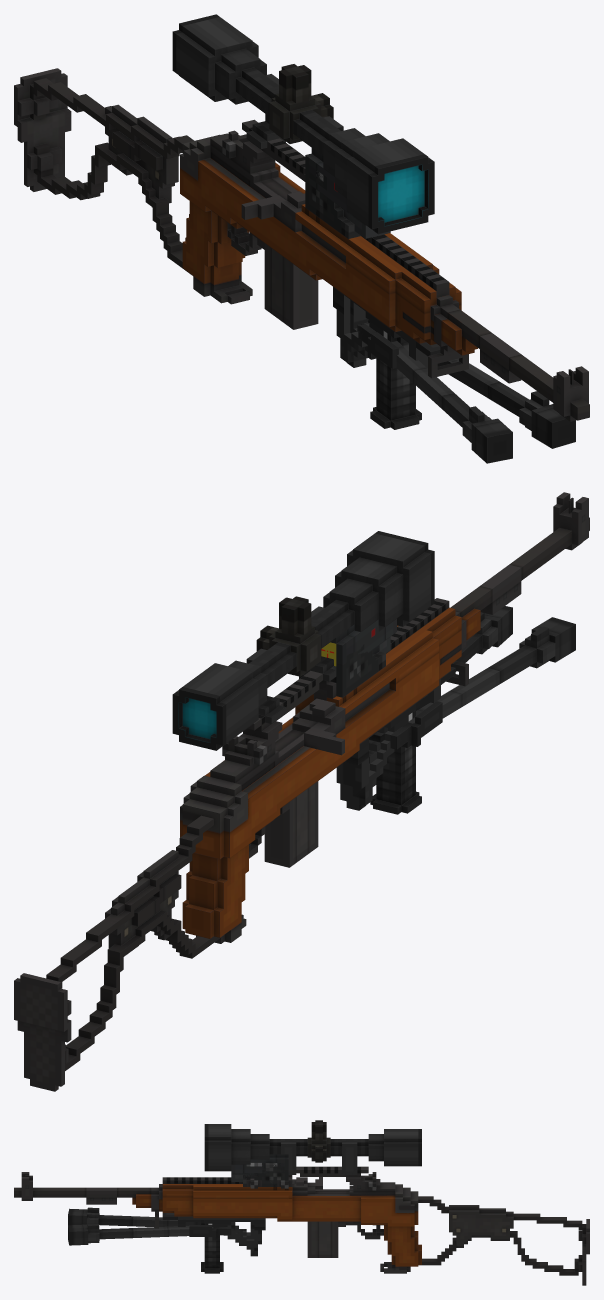
File: RD_M1A1_CARBINE.glb
3 views of the same model, one above another, from view 1: azimuth 30°, elevation 25°; view 2: azimuth 150°, elevation 25°; view 3: azimuth 270°, elevation 25° (orthographic). The views are drawn at different scales.
Parts seen in each view (by area): view 1: M1A1_CARBINE, SCOPE_SCHMIDT_BENDER, M1A1_CARBINE_STOCK, DIPOD2_LEG1, DIPOD2_LEG2, M1A1_CARBINE_CLIP, GRIP1, GRIP3, M1A1_CARBINE_BOLT, M1A1_CARBINE_PLANK2, SCOPE_EOTECH, SCOPE_TASCO (+2 smaller); view 2: M1A1_CARBINE, SCOPE_SCHMIDT_BENDER, M1A1_CARBINE_STOCK, DIPOD2_LEG1, GRIP3, M1A1_CARBINE_CLIP, M1A1_CARBINE_BOLT, GRIP1, M1A1_CARBINE_PLANK2, SCOPE_TASCO, DIPOD2_LEG2, SCOPE_EOTECH (+2 smaller); view 3: M1A1_CARBINE, SCOPE_SCHMIDT_BENDER, M1A1_CARBINE_STOCK, DIPOD2_LEG2, DIPOD2_LEG1, GRIP3, M1A1_CARBINE_CLIP, M1A1_CARBINE_PLANK2, SCOPE_TASCO, GRIP1, SCOPE_EOTECH, DIPOD2 (+2 smaller).
Boxes of the visible parts, x1=… form: M1A1_CARBINE: x1=180, y1=130, x2=589, y2=421; SCOPE_SCHMIDT_BENDER: x1=172, y1=14, x2=434, y2=234; M1A1_CARBINE_STOCK: x1=14, y1=68, x2=194, y2=275; DIPOD2_LEG1: x1=392, y1=341, x2=512, y2=463; DIPOD2_LEG2: x1=437, y1=358, x2=575, y2=448; M1A1_CARBINE_CLIP: x1=264, y1=243, x2=318, y2=329; GRIP1: x1=370, y1=330, x2=421, y2=429; GRIP3: x1=333, y1=287, x2=427, y2=368; M1A1_CARBINE_BOLT: x1=241, y1=169, x2=345, y2=262; M1A1_CARBINE_PLANK2: x1=239, y1=119, x2=305, y2=181; SCOPE_EOTECH: x1=305, y1=171, x2=390, y2=238; SCOPE_TASCO: x1=305, y1=147, x2=365, y2=238; M1A1_CARBINE: x1=180, y1=492, x2=589, y2=943; SCOPE_SCHMIDT_BENDER: x1=172, y1=531, x2=434, y2=750; M1A1_CARBINE_STOCK: x1=14, y1=805, x2=223, y2=1091; DIPOD2_LEG1: x1=408, y1=617, x2=575, y2=723; GRIP3: x1=336, y1=679, x2=440, y2=810; M1A1_CARBINE_CLIP: x1=264, y1=781, x2=318, y2=867; M1A1_CARBINE_BOLT: x1=275, y1=683, x2=389, y2=755; GRIP1: x1=370, y1=701, x2=421, y2=814; M1A1_CARBINE_PLANK2: x1=239, y1=670, x2=336, y2=753; SCOPE_TASCO: x1=321, y1=619, x2=396, y2=677; DIPOD2_LEG2: x1=441, y1=606, x2=512, y2=684; SCOPE_EOTECH: x1=330, y1=637, x2=390, y2=697; M1A1_CARBINE: x1=14, y1=1172, x2=421, y2=1273; SCOPE_SCHMIDT_BENDER: x1=204, y1=1120, x2=421, y2=1174; M1A1_CARBINE_STOCK: x1=399, y1=1196, x2=589, y2=1285; DIPOD2_LEG2: x1=68, y1=1224, x2=213, y2=1245; DIPOD2_LEG1: x1=68, y1=1207, x2=200, y2=1227; GRIP3: x1=178, y1=1216, x2=265, y2=1256; M1A1_CARBINE_CLIP: x1=307, y1=1221, x2=338, y2=1257; M1A1_CARBINE_PLANK2: x1=246, y1=1166, x2=368, y2=1188; SCOPE_TASCO: x1=231, y1=1154, x2=288, y2=1186; GRIP1: x1=201, y1=1220, x2=223, y2=1273; SCOPE_EOTECH: x1=231, y1=1163, x2=288, y2=1186; DIPOD2: x1=162, y1=1213, x2=231, y2=1240.
Size of the model in its own units: 0.1488 by 0.4526 by 1.49.
9 materials, 9 textured.
